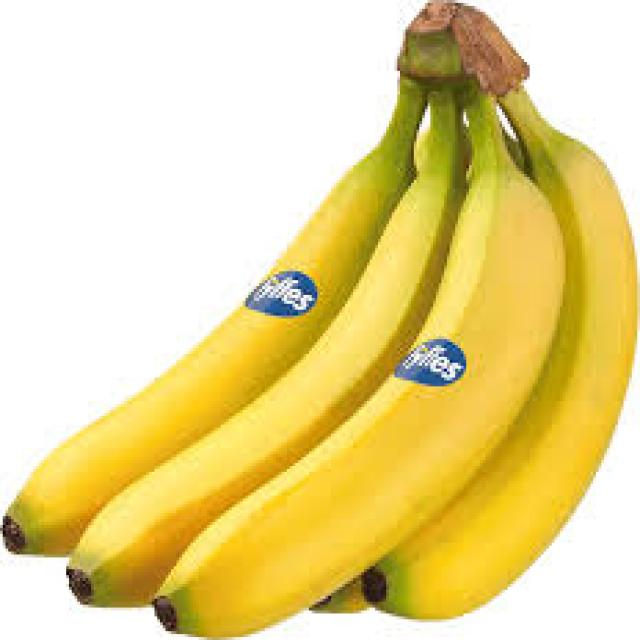banana: (10, 1, 636, 635)
